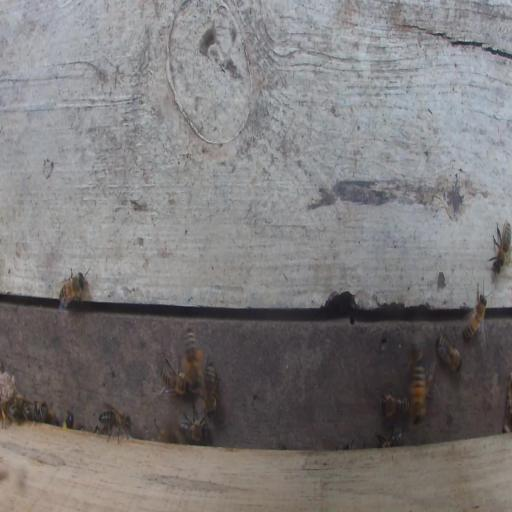bee: (462, 283, 488, 344), (58, 266, 91, 311), (97, 408, 132, 444), (160, 359, 193, 396), (178, 406, 210, 444), (489, 219, 511, 274), (183, 327, 203, 387), (408, 365, 427, 423), (437, 336, 462, 374), (379, 390, 409, 418), (203, 362, 218, 418), (375, 425, 403, 448), (14, 394, 31, 421), (0, 398, 18, 423), (34, 403, 48, 419), (65, 410, 74, 429)
